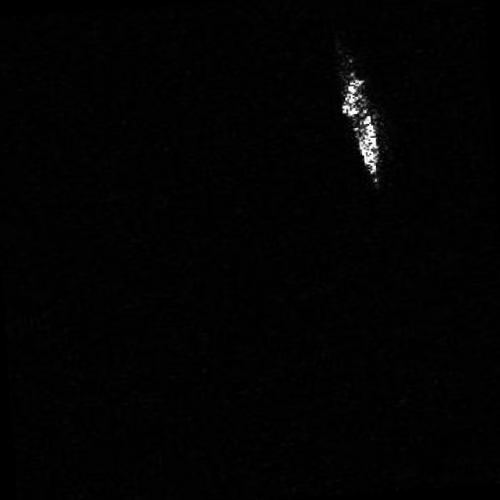ship: (340, 73, 383, 181)
